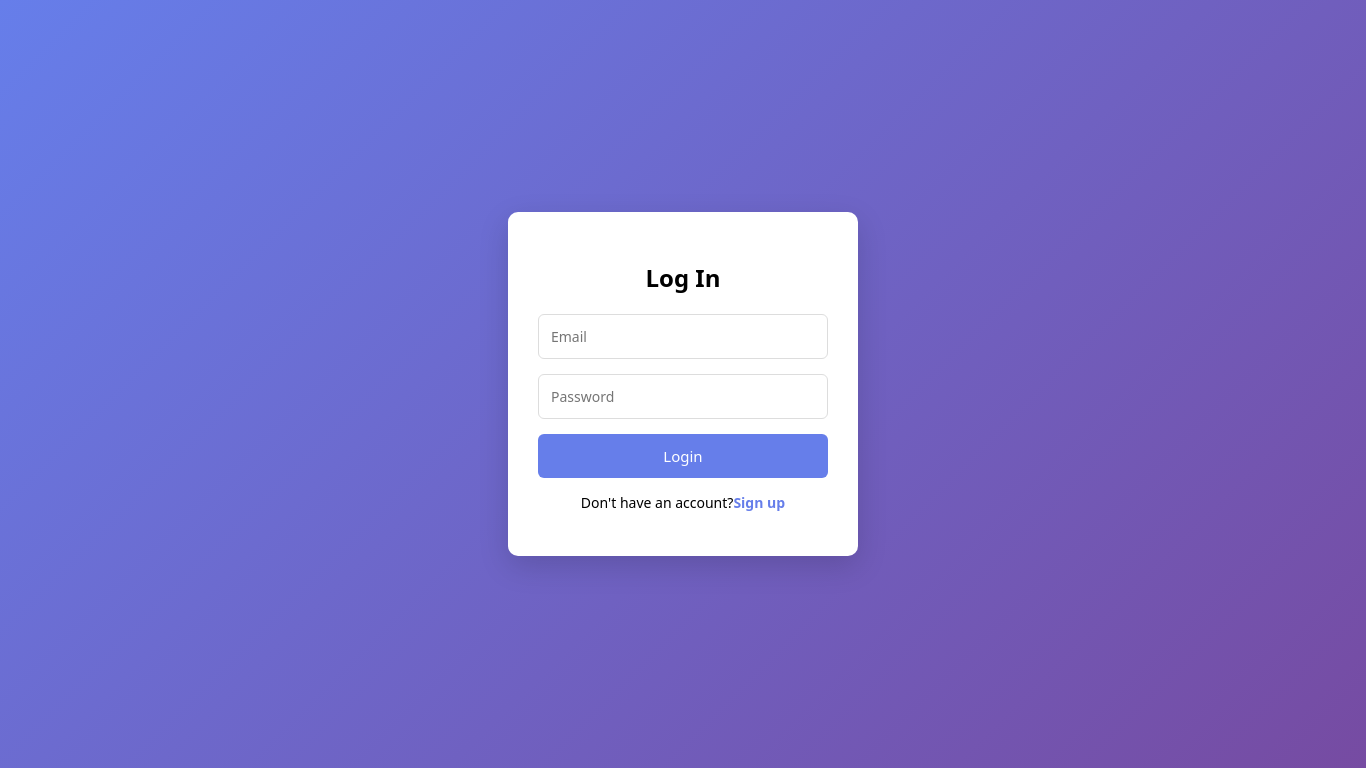
Scenario: Login Component › shows error message on failed login
Type "wrong@gmail.com" into the field with placeholder "Email" at (683,337), box [538,314,828,360]
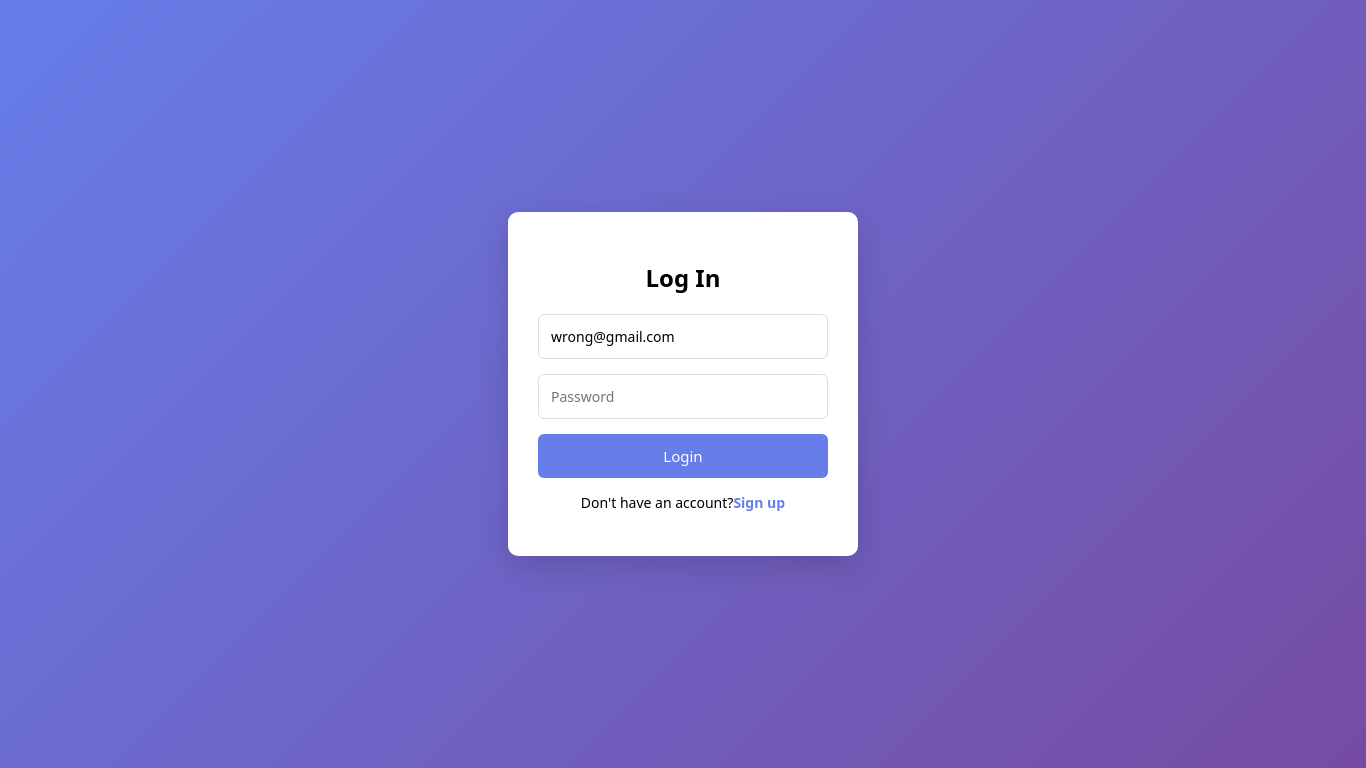
Type "wrongpass" into the password field with placeholder "Password" at (683,397), box [538,374,828,420]
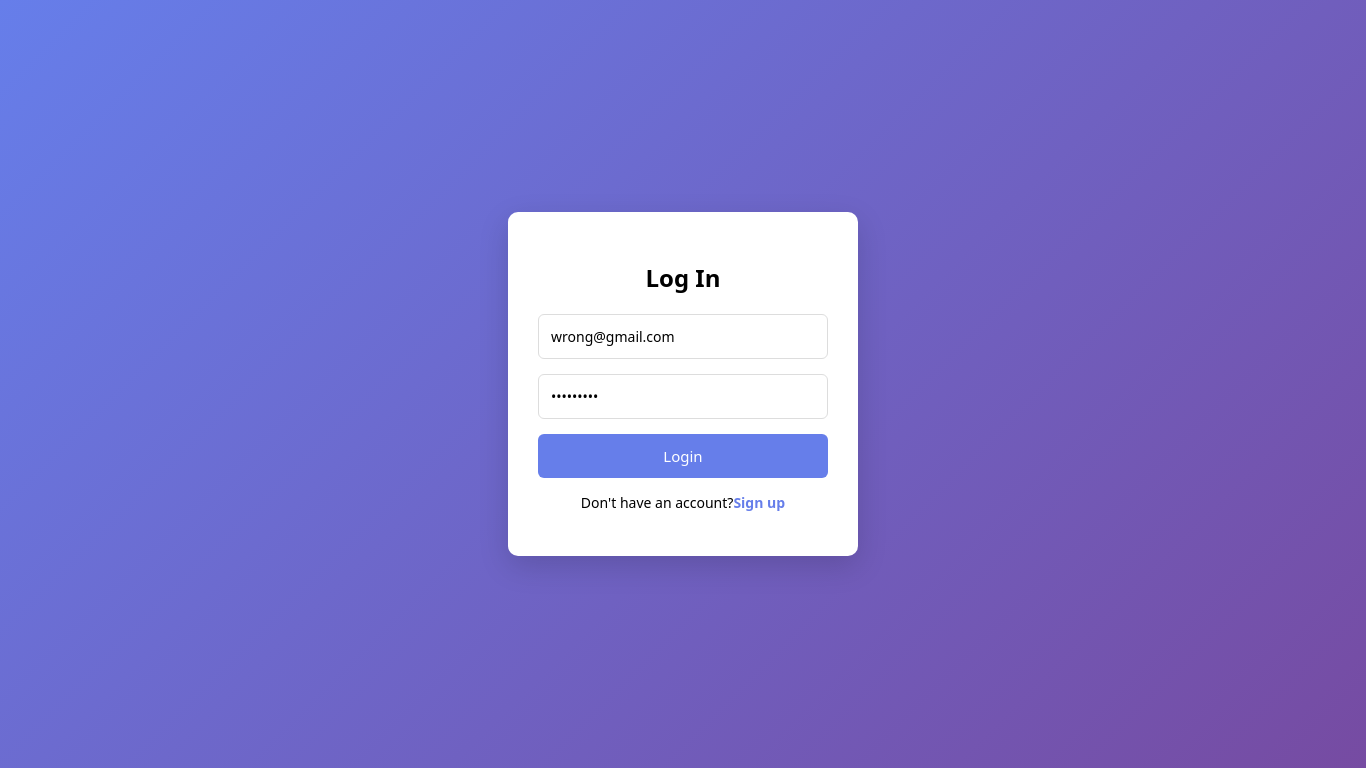
Click the button "Login" at (683,456), box [538,434,828,478]
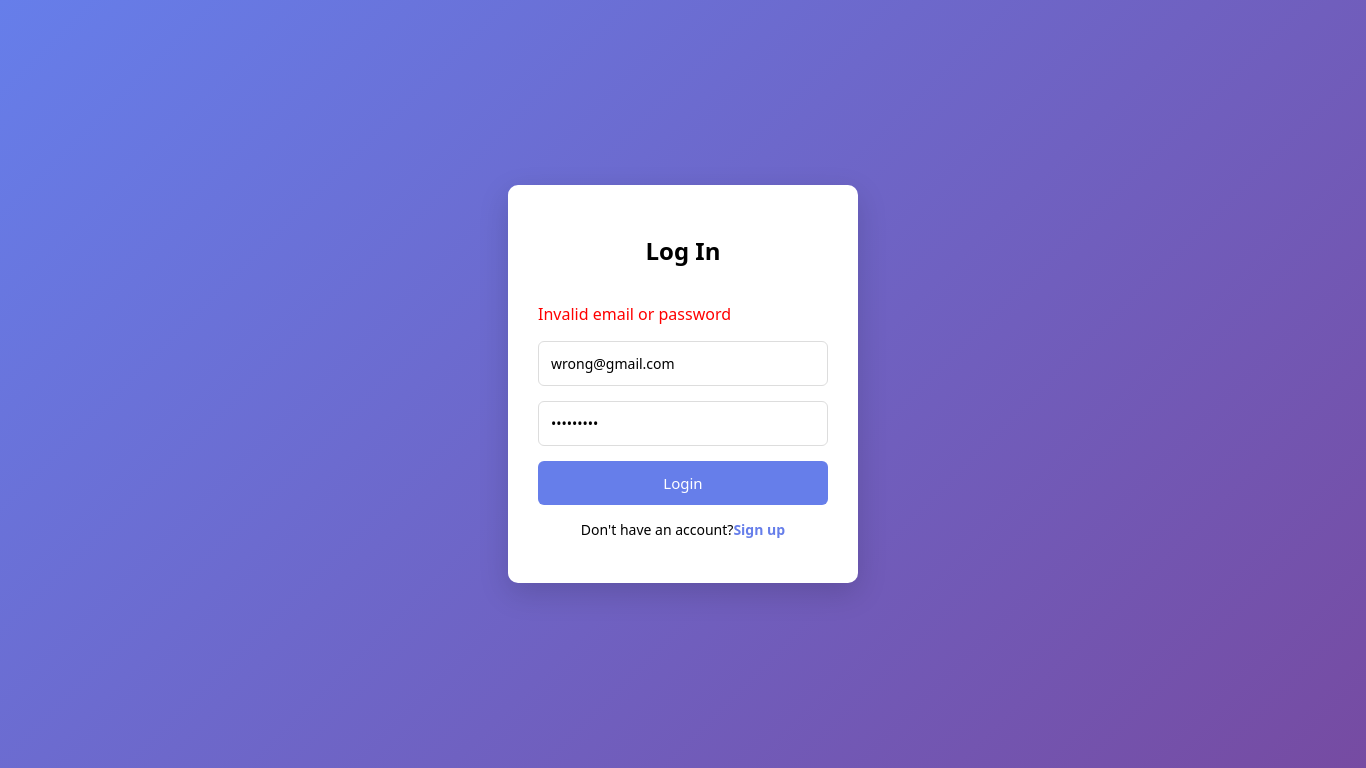
Check: the text "Invalid email or password" is shown, box [538,304,731,326]
